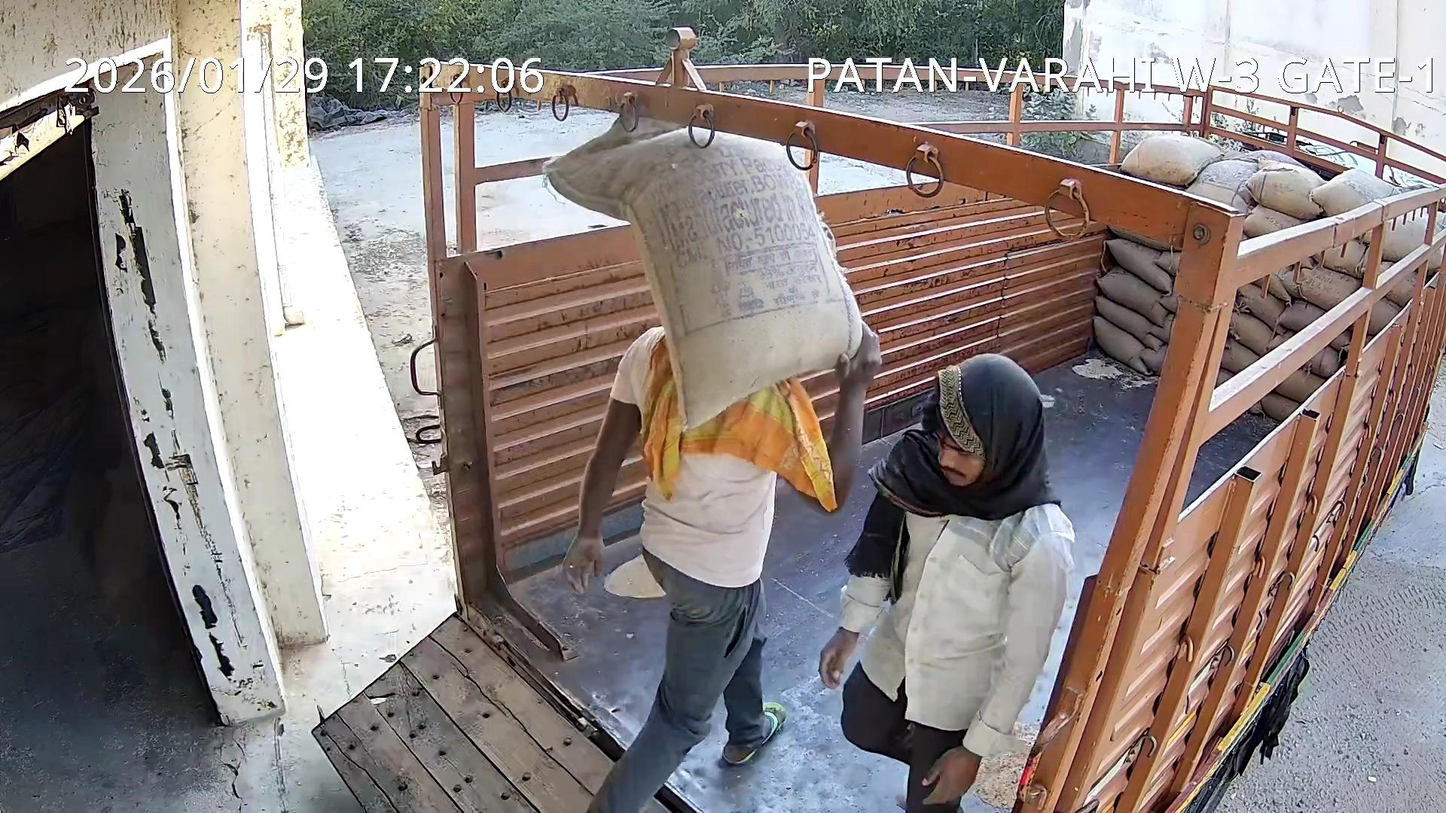Sack: (545, 115, 861, 427)
